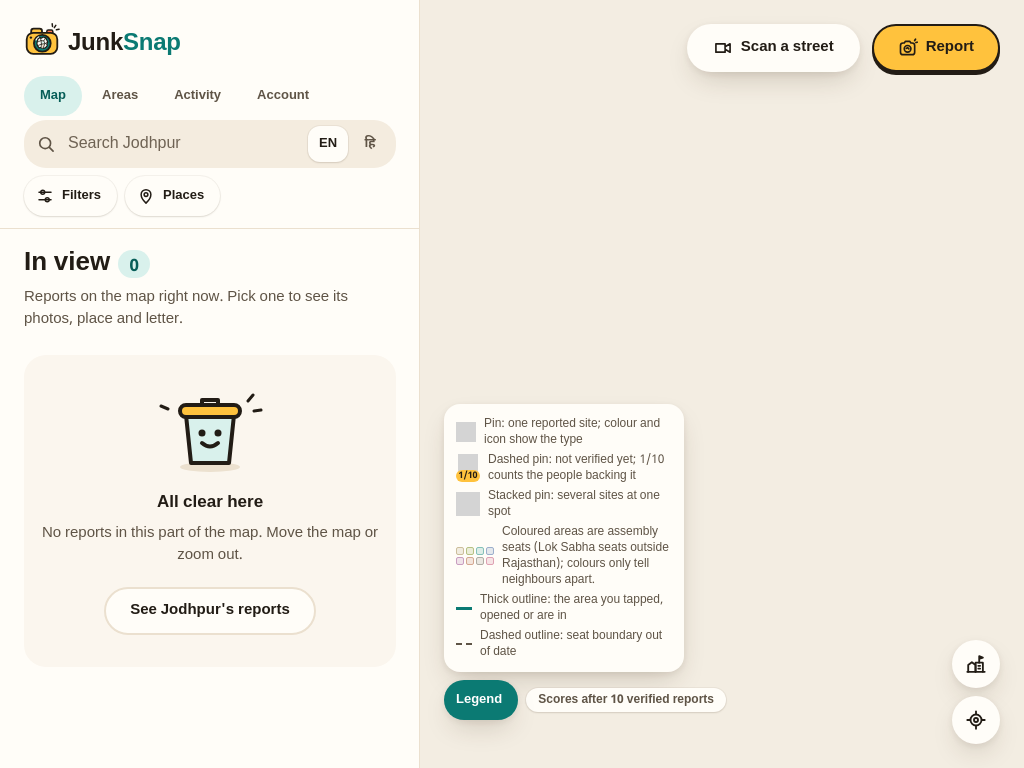
Test: Map areas controls › has no layer switcher; the ranking is one tap away
Click the button named "City ranking".
click(976, 664)  # box [952,640,1000,688]
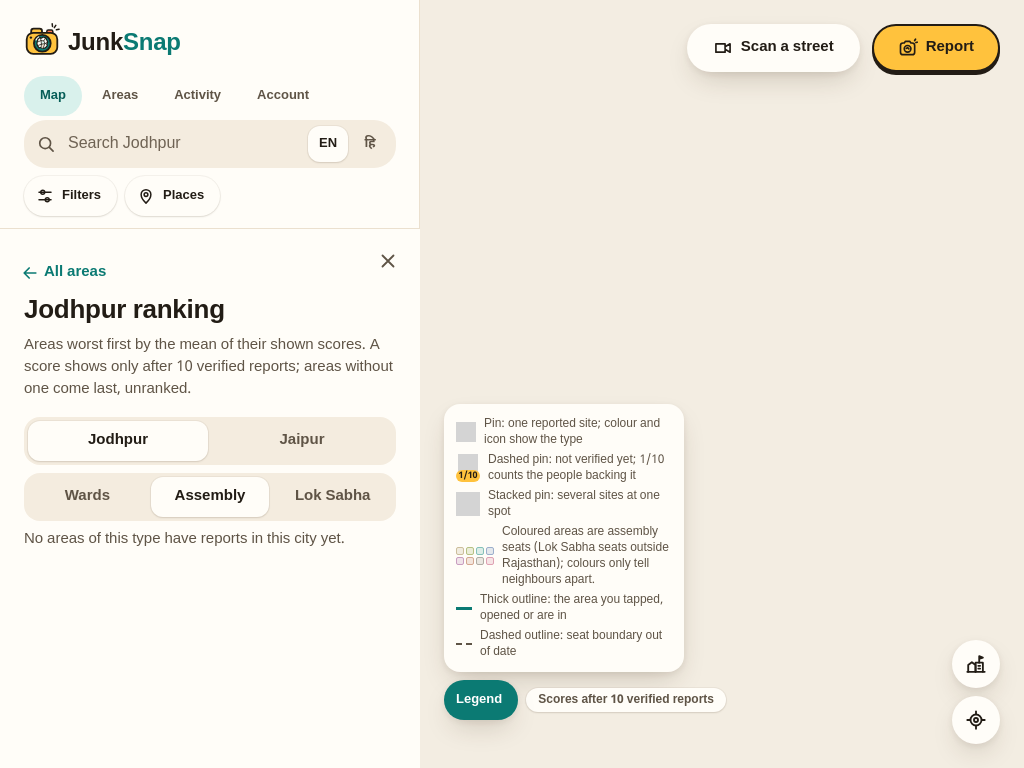
Expected: the heading "Jodhpur ranking" is shown, [24,295,225,329]
